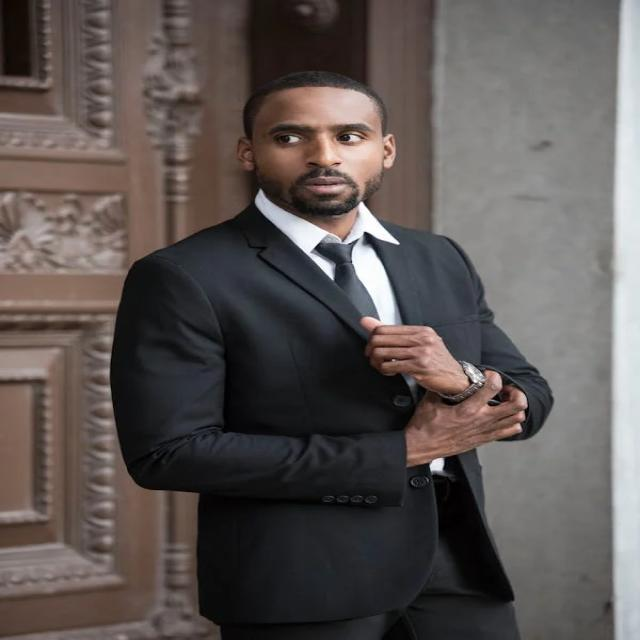Real human 2: (103, 57, 594, 640)
